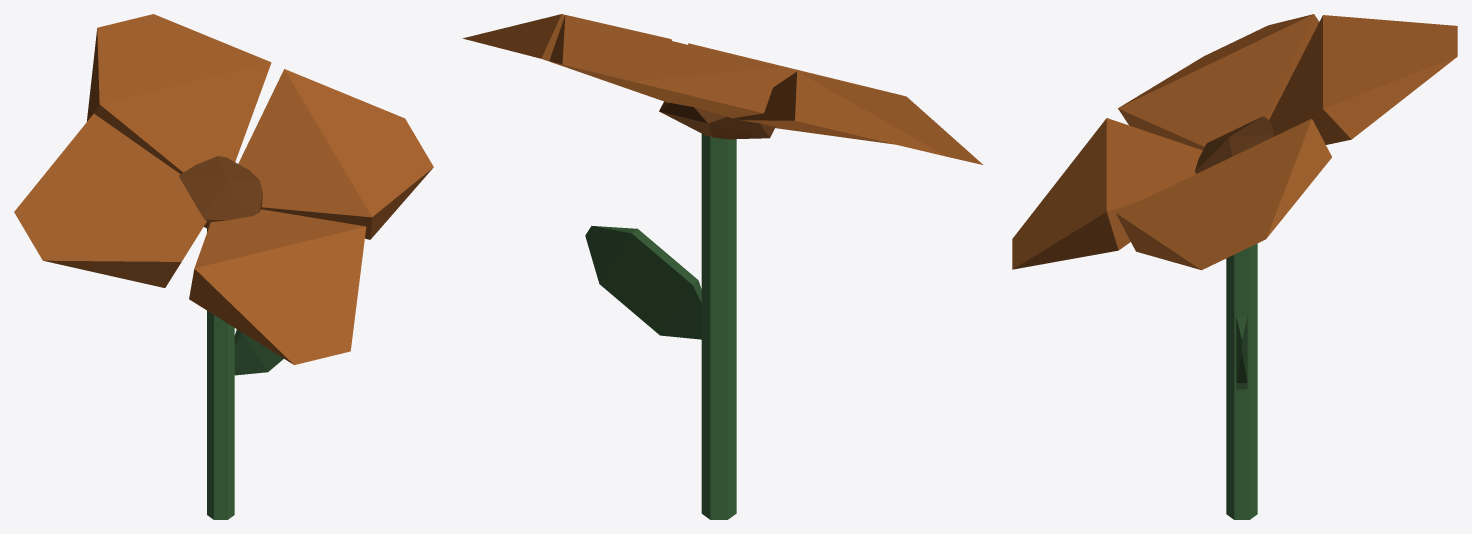
File: Flower_2_Orange.fbx
3 views of the same model, side by side, from view 1: azimuth 30°, elevation 25°; view 2: azimuth 150°, elevation 25°; view 3: azimuth 270°, elevation 25° (orthographic). The views are drawn at different scales.
Parts seen in each view (by area): view 1: Flower_2_Orange; view 2: Flower_2_Orange; view 3: Flower_2_Orange.
Part boxes in pixels (<box>): Flower_2_Orange: <box>14,14,433,519</box>; Flower_2_Orange: <box>462,14,982,519</box>; Flower_2_Orange: <box>1012,14,1457,519</box>.
Size of the model in its own units: 45.18 by 46.83 by 39.92.
